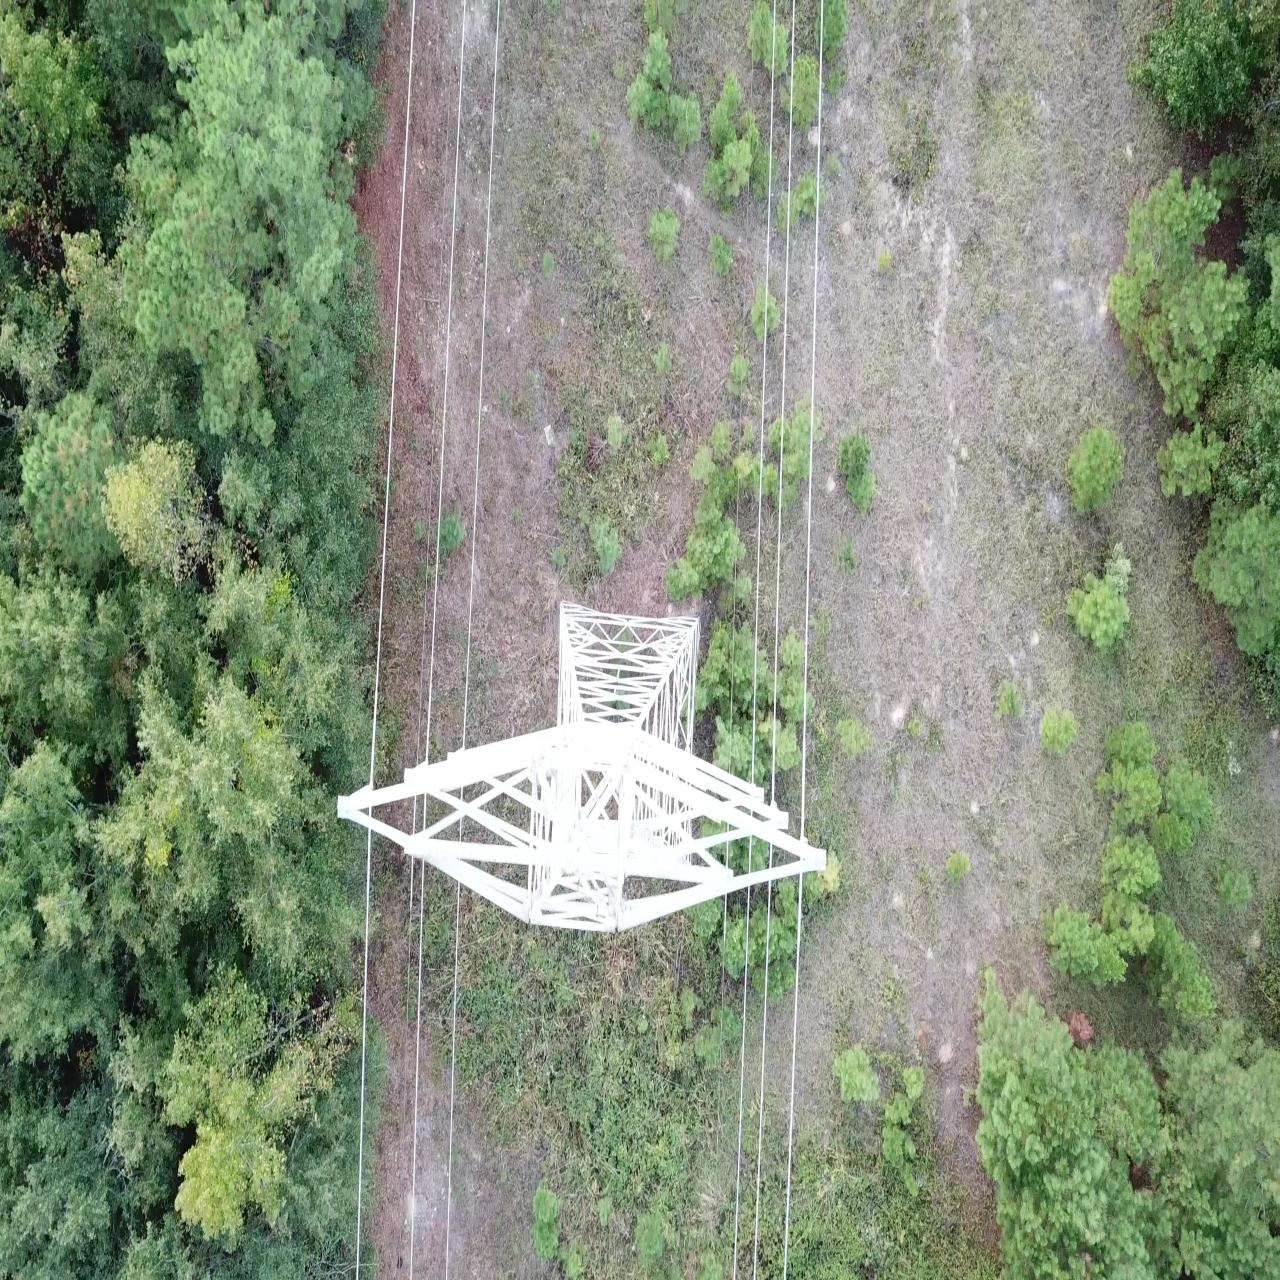cable: (369, 0, 415, 789), (425, 0, 467, 764), (416, 1, 455, 767), (463, 1, 501, 750), (729, 1, 755, 774), (751, 0, 776, 785), (771, 0, 795, 802), (802, 0, 823, 837), (784, 873, 803, 1279), (754, 880, 771, 1279), (399, 855, 414, 1279), (734, 886, 750, 1279), (356, 829, 370, 1279), (410, 859, 424, 1279), (712, 896, 727, 1279), (445, 881, 459, 1279)
tower_lattice: (338, 600, 826, 933)
